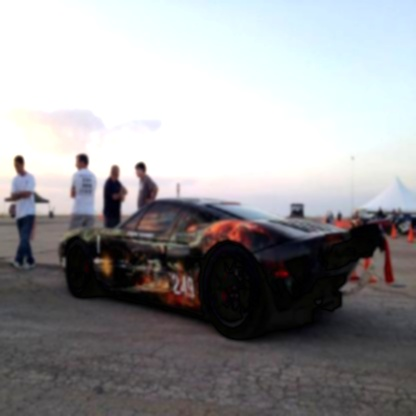Vehicle: (57, 196, 355, 339)
